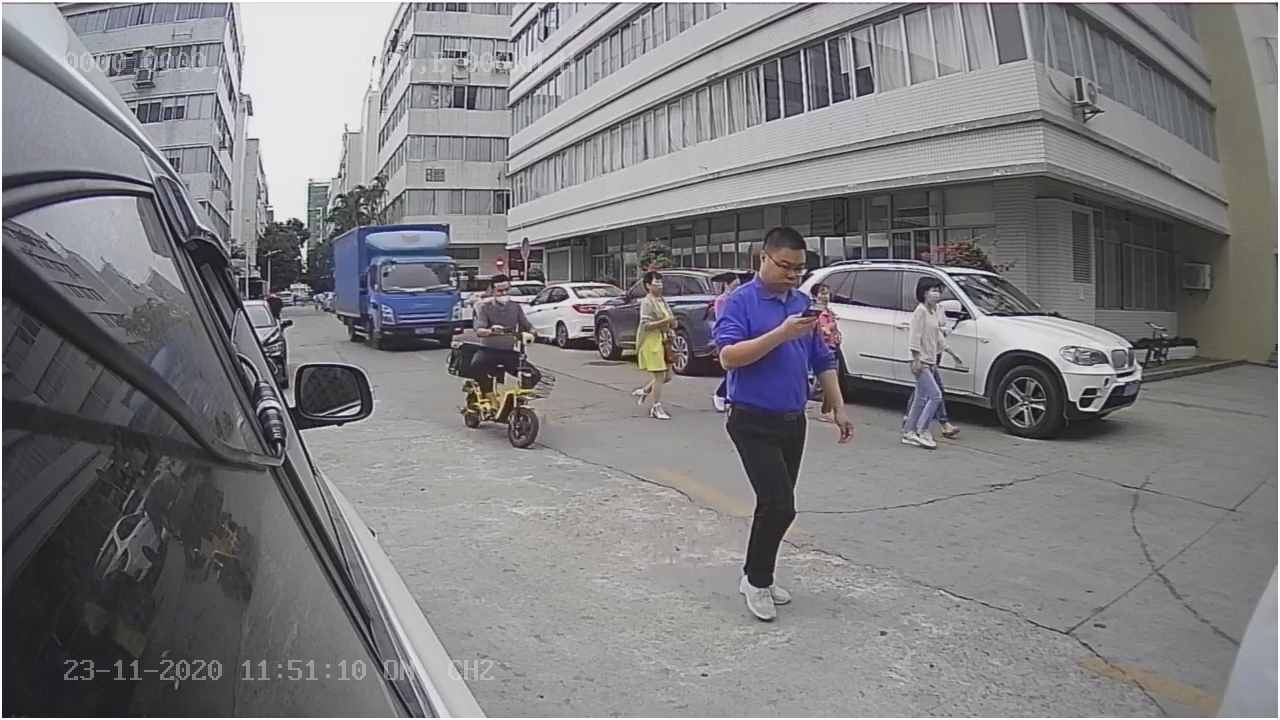person: (705, 216, 855, 623), (626, 263, 685, 422)
